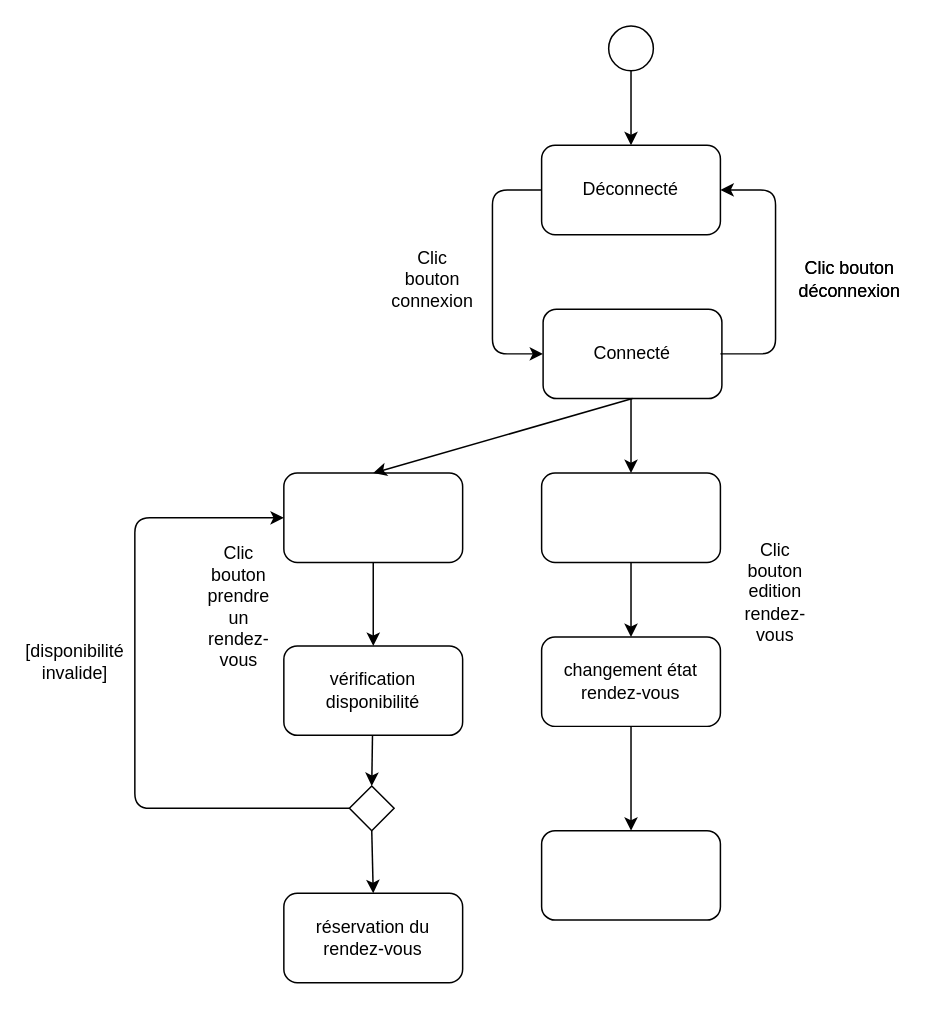
This 925x1009 diagram has some shape labels left out. The box of each missing label's shape, as (x1, y1, x2, y2) in pixels:
envoie d'un email: (540, 829, 720, 920)
prendre un rendez-vous: (282, 472, 463, 562)
éditer un rendez-vous: (540, 472, 720, 562)
